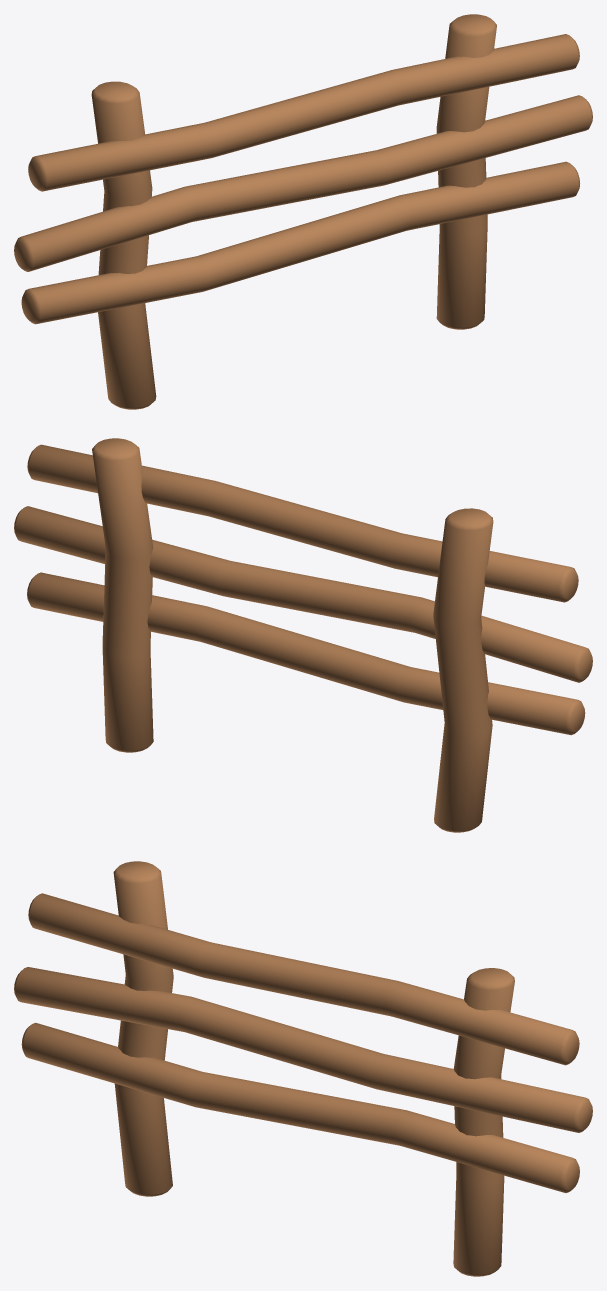
The model's file is fence.fbx.
The picture shows the model from 3 angles, top to bottom: view 1: azimuth 30°, elevation 25°; view 2: azimuth 150°, elevation 25°; view 3: azimuth 330°, elevation 25°; orthographic projection.
Visible parts, largest first — view 1: fence; view 2: fence; view 3: fence.
Part boxes in pixels (<box>): fence: <box>14,14,592,409</box>; fence: <box>14,438,592,832</box>; fence: <box>14,861,592,1276</box>.
Bounding box in the file's own units: 323 × 171 × 31.97.
